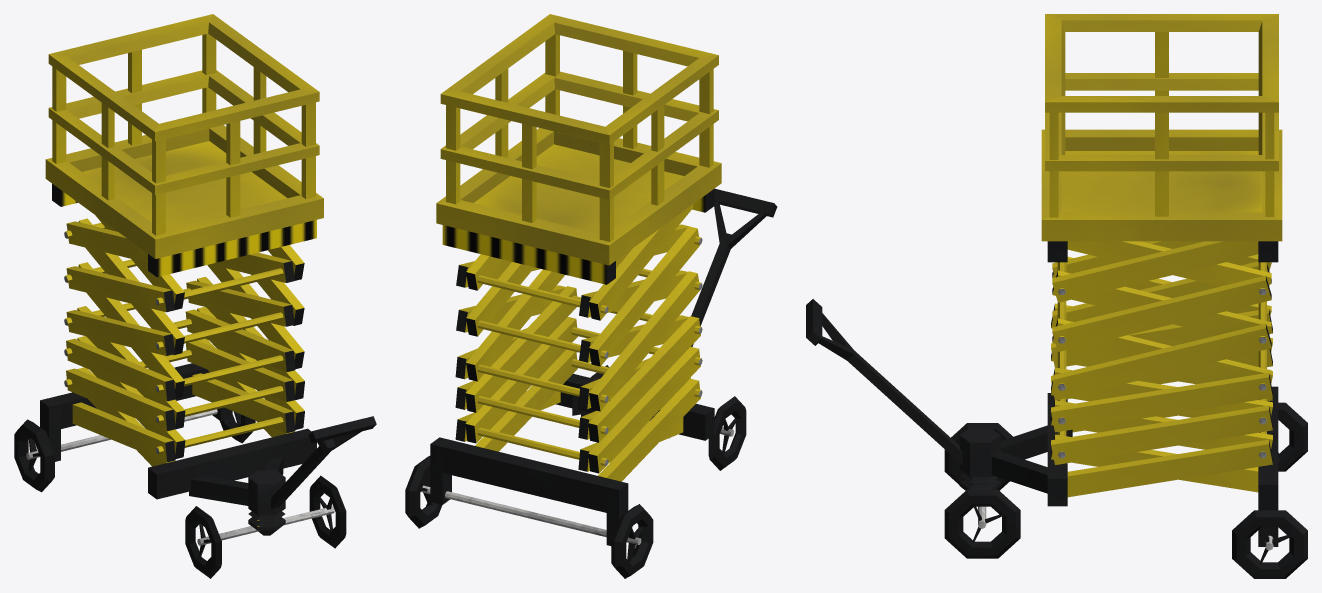
File: elevadorindustrial.fbx
3 renders of one model, left to right at view 1: azimuth 30°, elevation 25°; view 2: azimuth 150°, elevation 25°; view 3: azimuth 270°, elevation 25°, orthographic. The views are drawn at different scales.
Parts seen in each view (by area): view 1: Cube.002; view 2: Cube.002; view 3: Cube.002.
Boxes of the visible parts, box(x1,y1,x2,y2) form: Cube.002: box(14, 14, 376, 578); Cube.002: box(405, 14, 777, 578); Cube.002: box(806, 14, 1307, 578).
Size of the model in its own units: 359 by 680 by 662.
